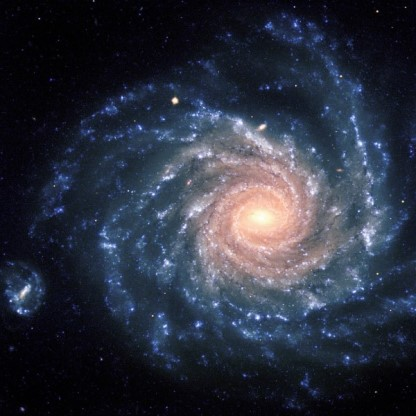NGC 1232: (8, 10, 414, 393)
